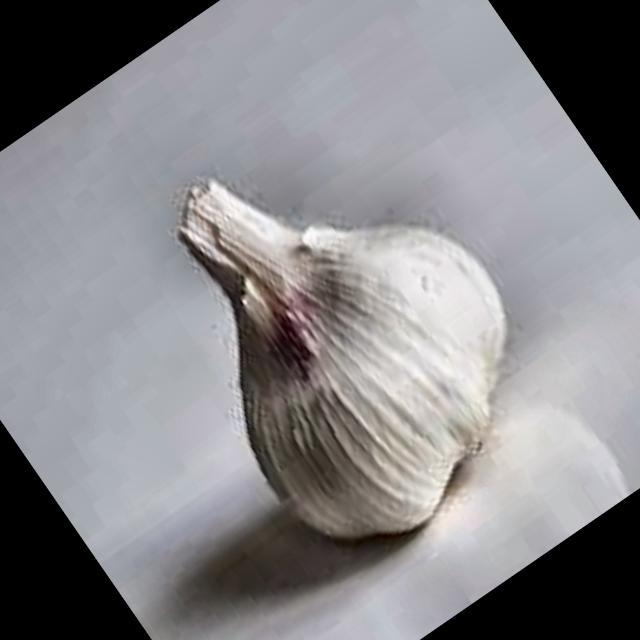garlic: (178, 179, 506, 538)
